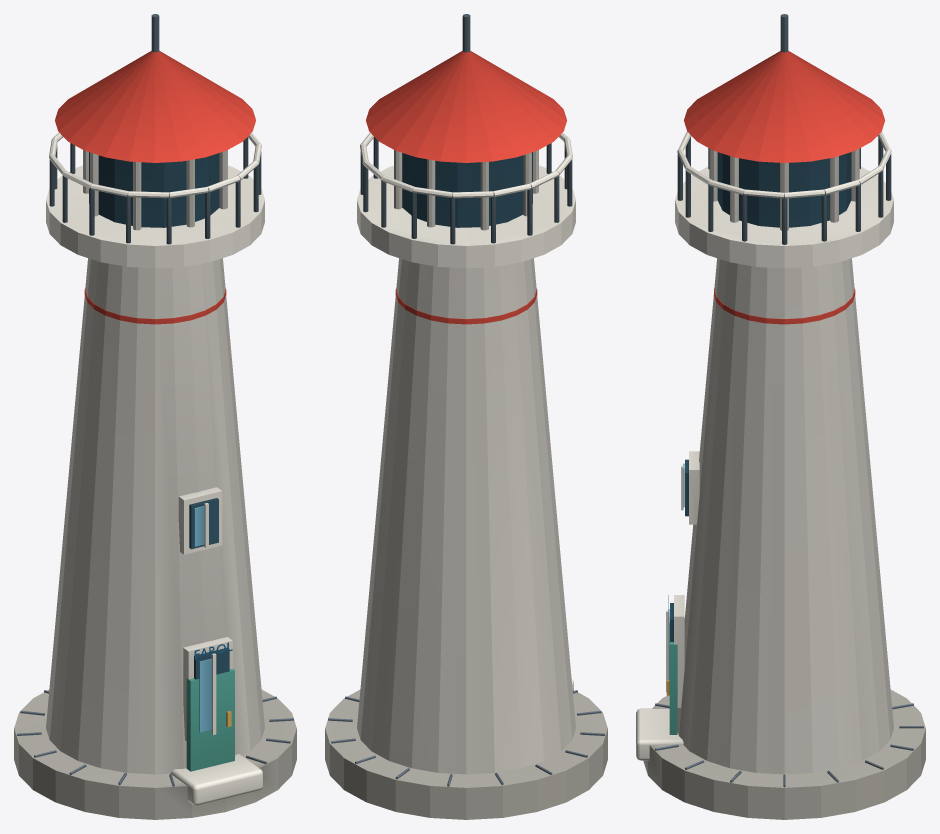
The model's file is lighthouse.glb.
3 views of the same model, side by side, from view 1: azimuth 30°, elevation 25°; view 2: azimuth 150°, elevation 25°; view 3: azimuth 270°, elevation 25° (orthographic).
Visible parts, largest first — view 1: white tapered tower, red band, stone plinth, lantern glass, lighthouse door, finial, reflection, plinth stone joint; view 2: white tapered tower, red band, stone plinth, lantern glass, finial, plinth stone joint; view 3: white tapered tower, red band, stone plinth, lantern glass, finial, lighthouse door, plinth stone joint.
Boxes of the visible parts, bbox=[...] form: white tapered tower: bbox=[46, 132, 264, 805]; red band: bbox=[55, 50, 255, 324]; stone plinth: bbox=[14, 689, 296, 819]; lantern glass: bbox=[89, 152, 229, 679]; lighthouse door: bbox=[186, 669, 234, 771]; finial: bbox=[49, 14, 261, 244]; reflection: bbox=[194, 506, 211, 732]; plinth stone joint: bbox=[17, 690, 293, 786]; white tapered tower: bbox=[357, 132, 575, 774]; red band: bbox=[366, 50, 566, 324]; stone plinth: bbox=[325, 689, 607, 819]; lantern glass: bbox=[402, 152, 532, 227]; finial: bbox=[360, 14, 572, 244]; plinth stone joint: bbox=[328, 690, 604, 786]; white tapered tower: bbox=[636, 131, 893, 774]; red band: bbox=[684, 51, 884, 324]; stone plinth: bbox=[643, 689, 925, 819]; lantern glass: bbox=[670, 152, 851, 641]; finial: bbox=[677, 14, 891, 244]; lighthouse door: bbox=[669, 623, 677, 734]; plinth stone joint: bbox=[655, 703, 923, 787].
Bounding box in the file's own units: 1.6 × 4.65 × 1.64.
